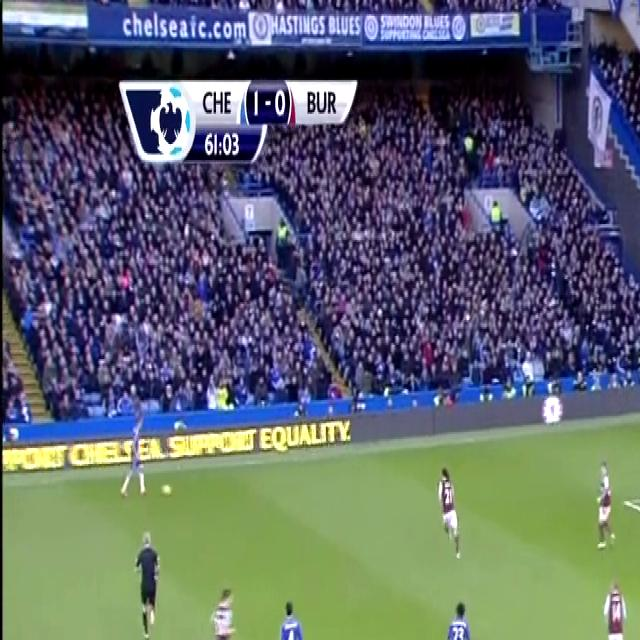ball: (159, 478, 173, 504)
referee: (130, 524, 165, 640)
soccer-player: (430, 458, 466, 564), (118, 405, 154, 508), (588, 452, 618, 558), (593, 565, 630, 640), (205, 578, 244, 640), (272, 592, 311, 640), (437, 595, 477, 640), (166, 636, 213, 640)
